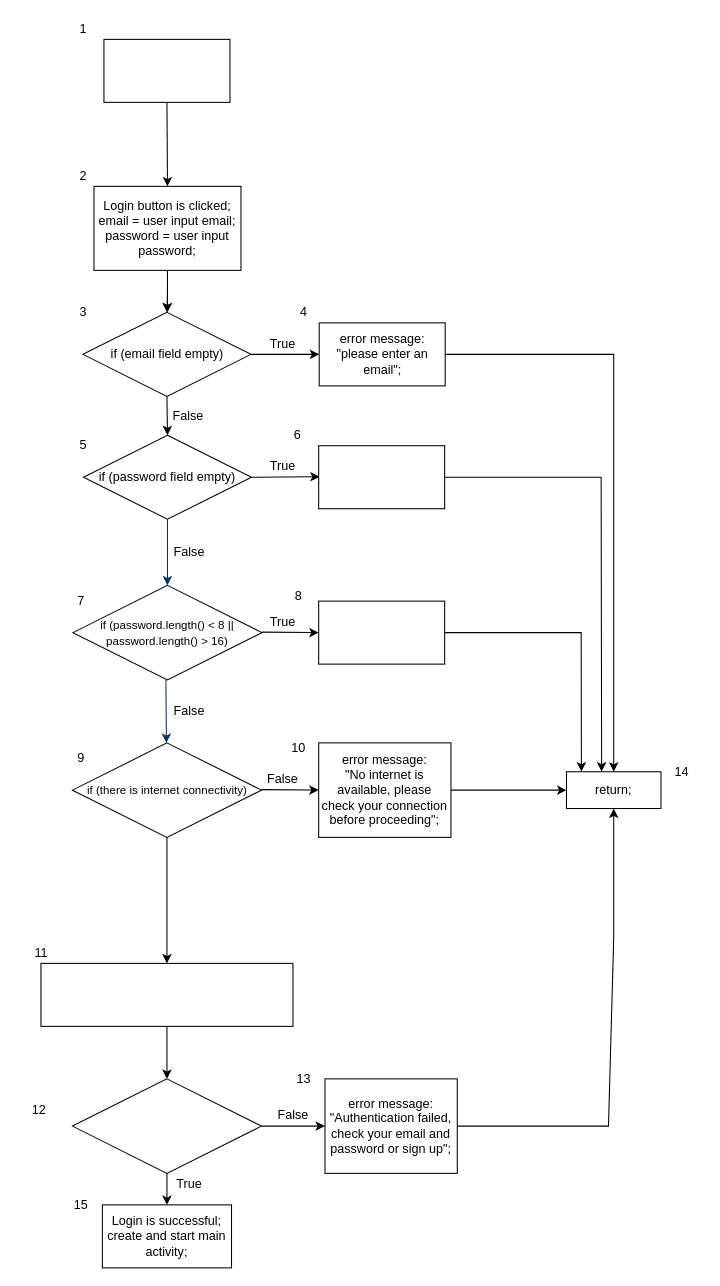
Image size: 720x1286. Some labels were removed from this diagram. Each missing label, with the centre of its shape:
auth.signInWithEmailAndPassword(email, password): the point at 166,994
error message: "please enter a password length of 8 to 16";: the point at 381,632
error message: "please enter a password";: the point at 381,477
if (authentication succesful): the point at 166,1125
LoginActivity(): the point at 166,70
